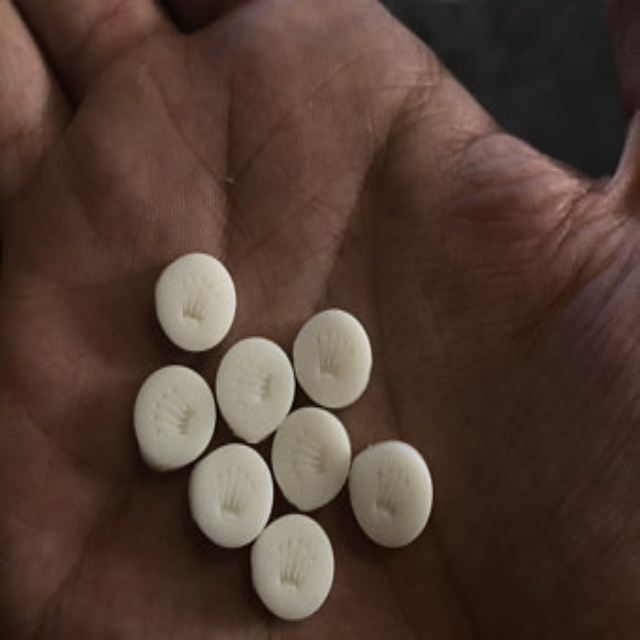pill: (68, 153, 117, 199), (98, 187, 146, 232), (132, 217, 179, 262), (186, 186, 230, 231), (145, 172, 187, 217), (114, 142, 156, 187), (82, 106, 126, 148), (156, 129, 198, 172)
